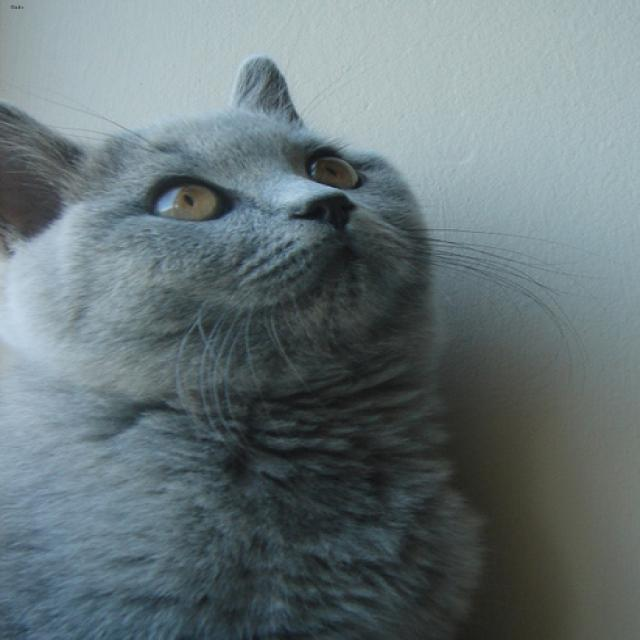British_Shorthair: (2, 50, 448, 448)
